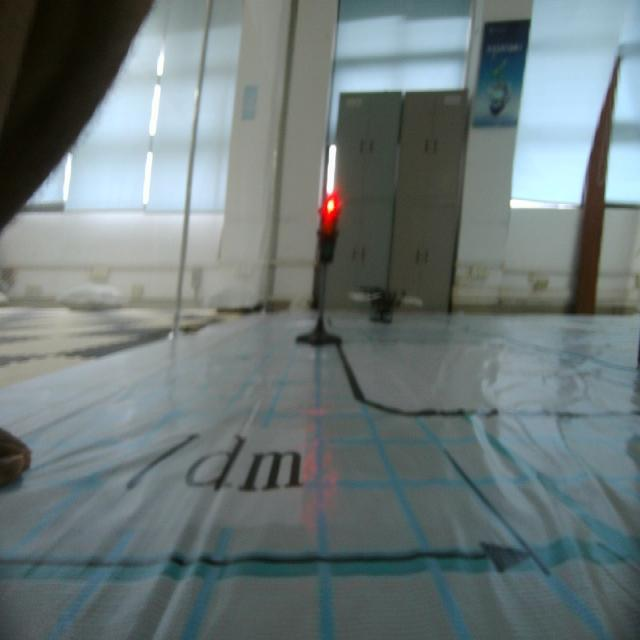red: (316, 189, 340, 269)
